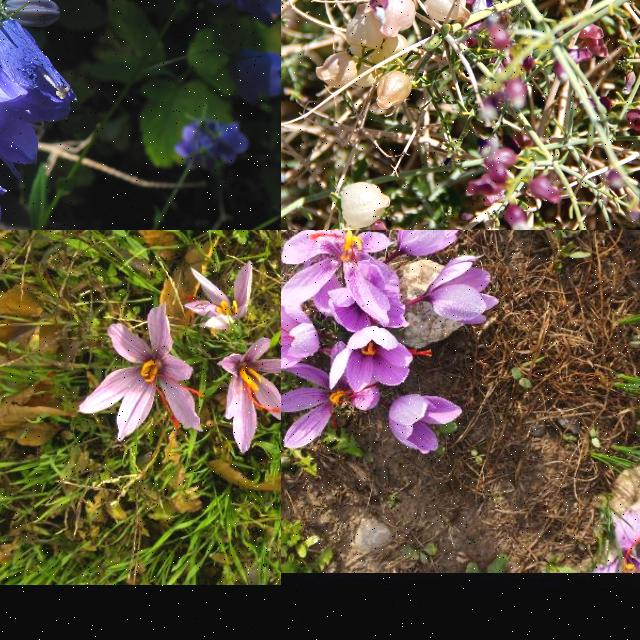flower: (78, 303, 205, 443), (281, 230, 396, 327), (216, 337, 281, 454), (329, 326, 433, 394), (422, 254, 500, 326), (183, 261, 253, 331), (389, 393, 463, 455), (593, 508, 640, 573), (281, 301, 321, 375), (398, 230, 463, 256)
overlap: (281, 230, 410, 448)
